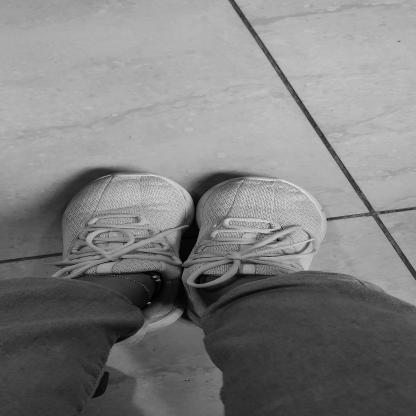ankle: (161, 286, 173, 290), (194, 291, 202, 295)
heel: (149, 326, 159, 330), (196, 323, 206, 326)
left_foot: (62, 173, 185, 333)
pinky: (299, 199, 308, 203), (82, 192, 90, 195)
right_foot: (188, 178, 329, 331)
toe: (164, 185, 171, 190), (218, 189, 226, 193)
